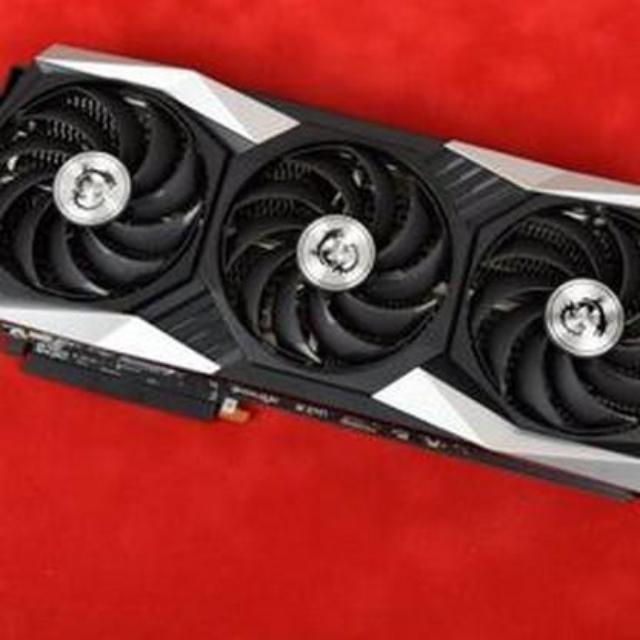GPU: (0, 30, 640, 507)
